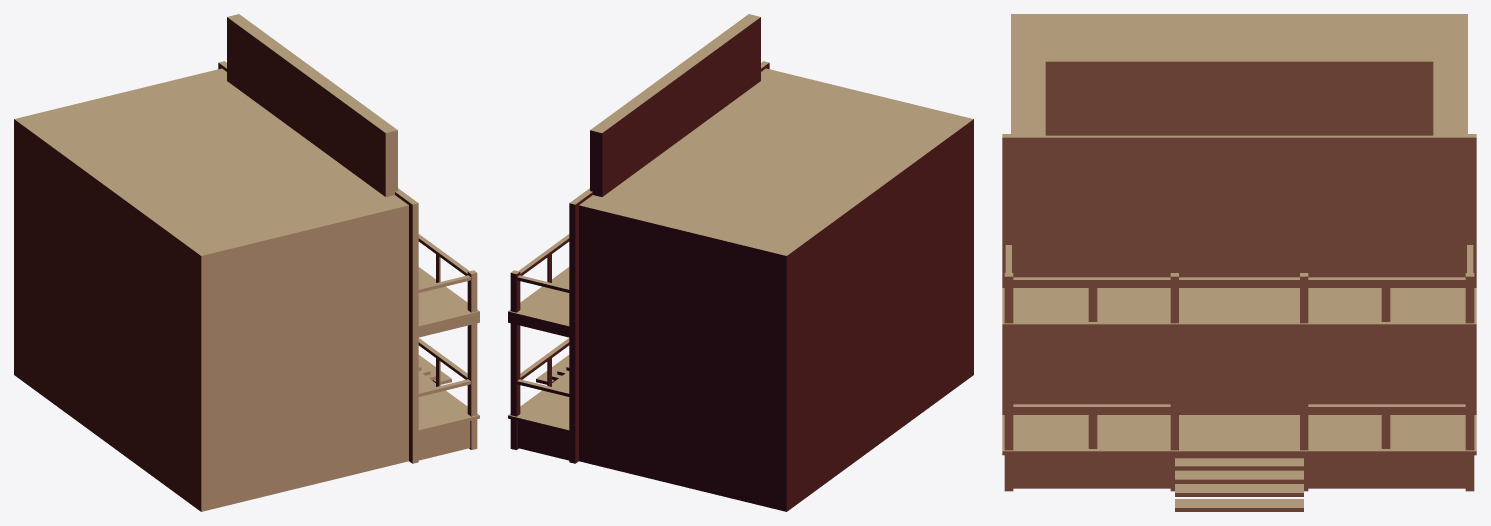
Rendered from house_base_shaded.glb.
The picture shows the model from 3 angles, left to right: view 1: azimuth 30°, elevation 25°; view 2: azimuth 150°, elevation 25°; view 3: azimuth 270°, elevation 25°; orthographic projection. The views are drawn at different scales.
Visible parts, largest first — view 1: HouseBase2.001; view 2: HouseBase2.001; view 3: HouseBase2.001.
Boxes of the visible parts, x1,y1,x2,y2 form: HouseBase2.001: [14, 14, 479, 511]; HouseBase2.001: [508, 14, 973, 511]; HouseBase2.001: [1002, 14, 1476, 511].
Bounding box in the file's own units: 10.4 × 10.05 × 11.
